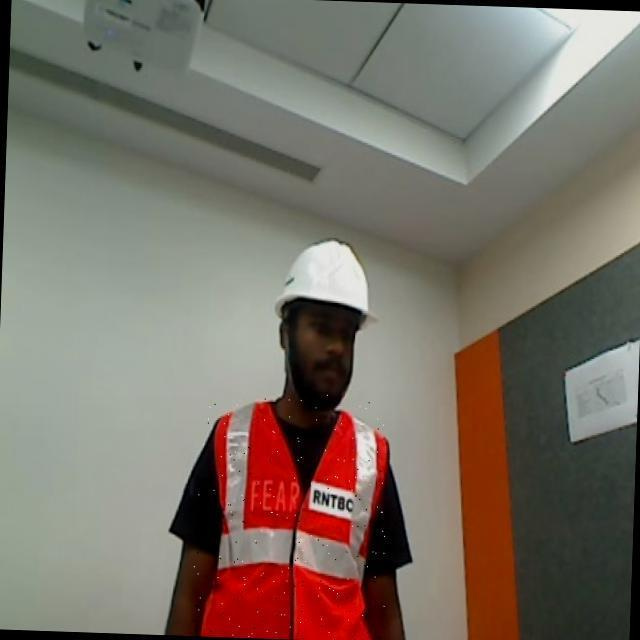helmet: (279, 233, 390, 347)
vest: (190, 389, 391, 640)
